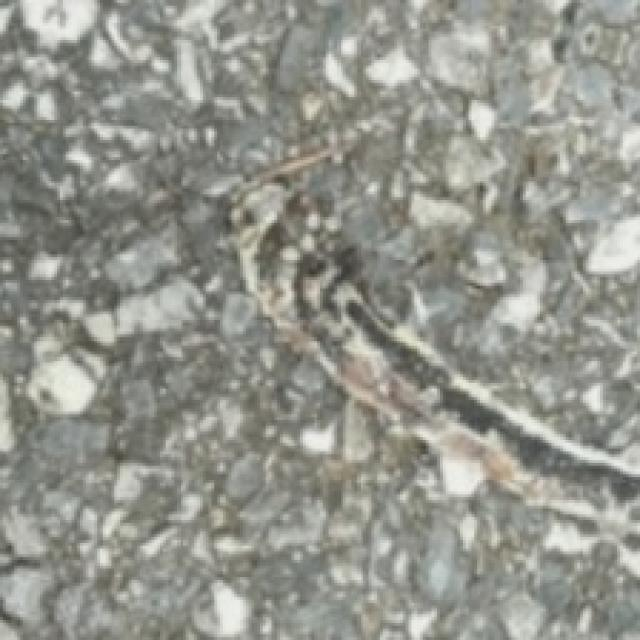king cobra: (231, 143, 637, 591), (231, 146, 637, 520), (389, 186, 471, 231)
